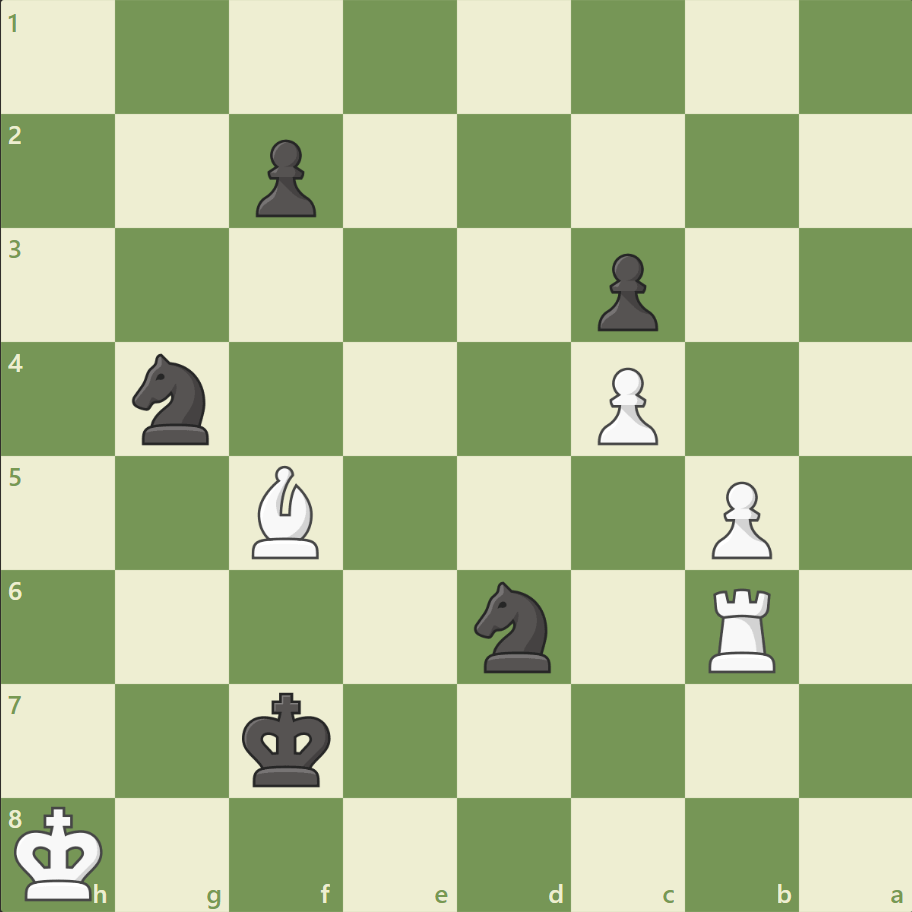B: (244, 460, 328, 563)
K: (11, 798, 111, 906)
P: (701, 473, 776, 564), (588, 359, 662, 450)
R: (700, 579, 783, 676)
k: (238, 685, 338, 793)
n: (124, 348, 222, 450), (465, 575, 562, 677)
p: (247, 132, 322, 223), (588, 246, 662, 337)
